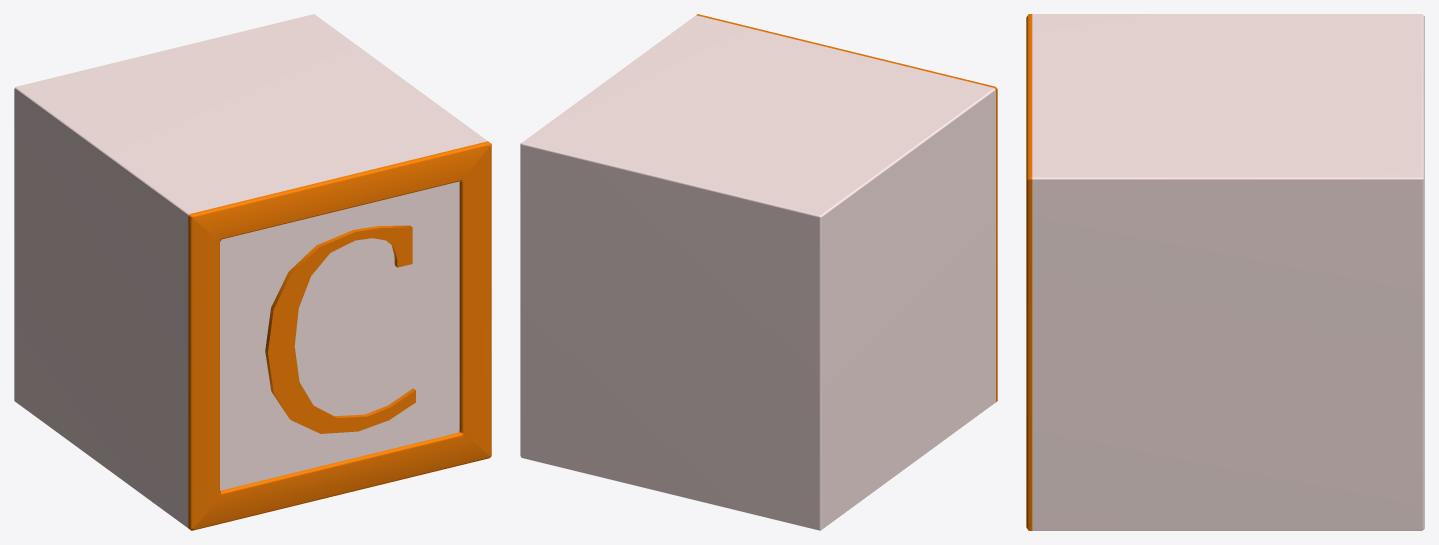
Rendered from Store_9_Toy_Cube_C.glb.
3 views of the same model, side by side, from view 1: azimuth 30°, elevation 25°; view 2: azimuth 150°, elevation 25°; view 3: azimuth 270°, elevation 25° (orthographic). The views are drawn at different scales.
Parts seen in each view (by area): view 1: Store_9_Toy_Cube_C; view 2: Store_9_Toy_Cube_C; view 3: Store_9_Toy_Cube_C.
Boxes of the visible parts, x1=… form: Store_9_Toy_Cube_C: x1=14, y1=14, x2=491, y2=530; Store_9_Toy_Cube_C: x1=520, y1=14, x2=997, y2=530; Store_9_Toy_Cube_C: x1=1026, y1=14, x2=1424, y2=530.
Bounding box in the file's own units: 1.13 × 1.13 × 1.15.
Materials: 1 (1 with a texture image).
